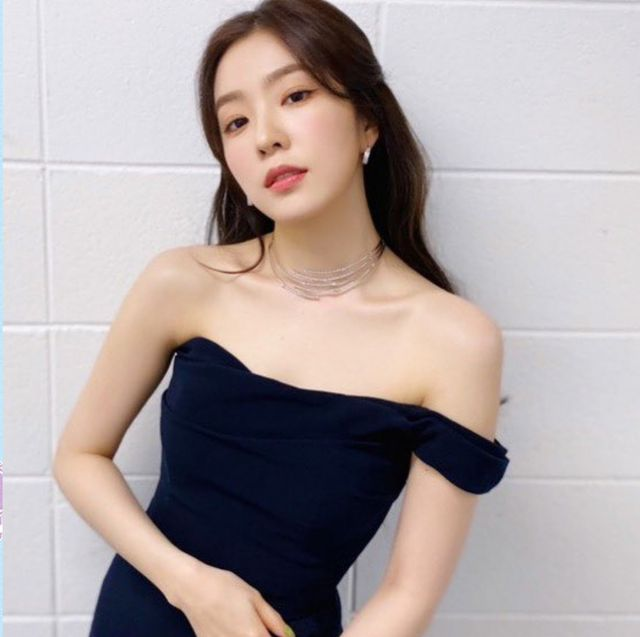people: (49, 1, 503, 637)
